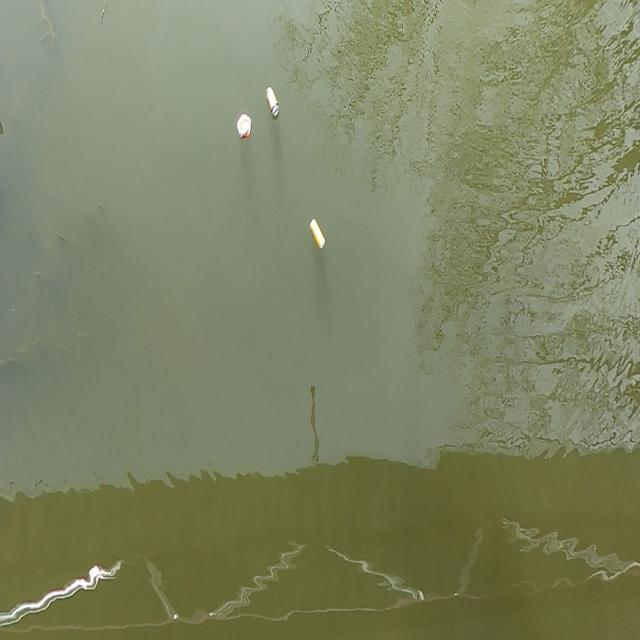Non plastique: (306, 214, 330, 257), (233, 110, 256, 141), (263, 84, 284, 116)
